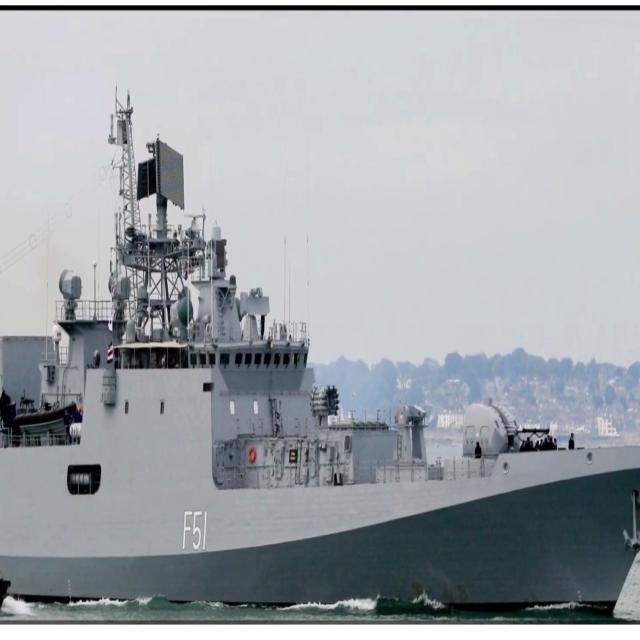OCR: (180, 506, 213, 558)
